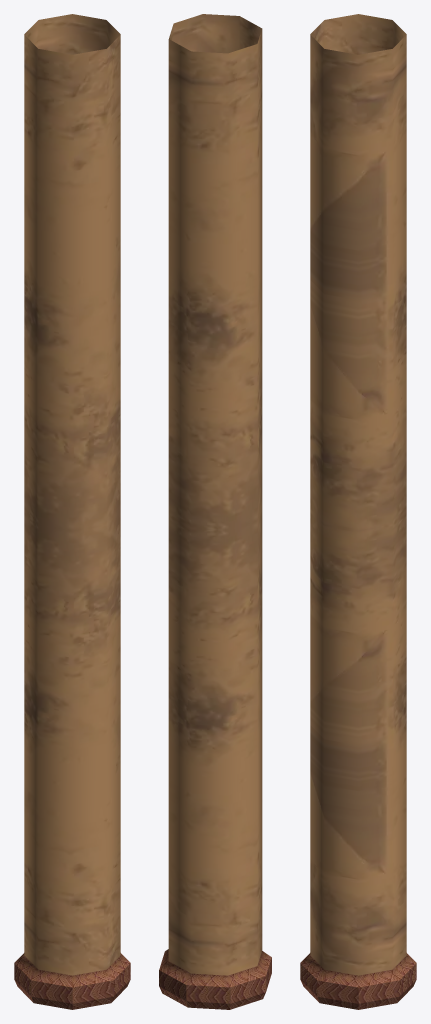
Rendered from pm-pipe-01.glb.
3 renders of one model, left to right at view 1: azimuth 90°, elevation 25°; view 2: azimuth 150°, elevation 25°; view 3: azimuth 270°, elevation 25°, orthographic.
Parts seen in each view (by area): view 1: Pipe_01_Art; view 2: Pipe_01_Art; view 3: Pipe_01_Art.
Part boxes in pixels (bbox=[...]): Pipe_01_Art: bbox=[14, 14, 130, 1009]; Pipe_01_Art: bbox=[159, 14, 271, 1009]; Pipe_01_Art: bbox=[300, 14, 416, 1009].
Bounding box in the file's own units: 1.78 × 16 × 1.78.
Materials: 2 (2 with a texture image).
